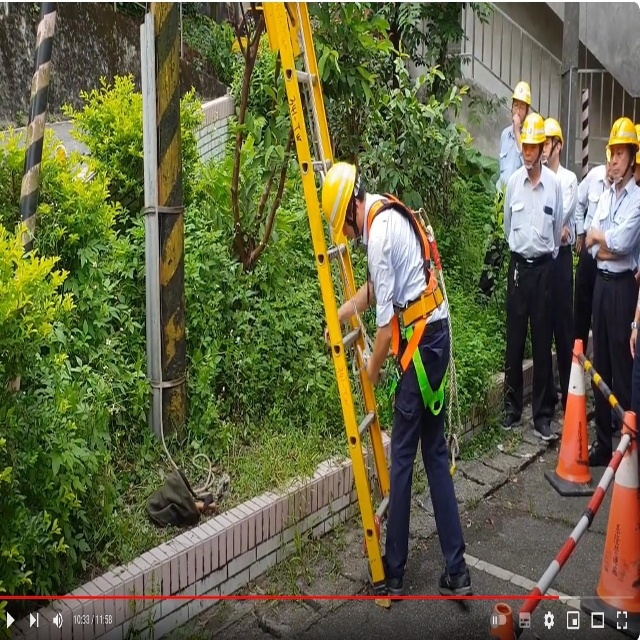Arnes_seguridad: (366, 195, 449, 418)
